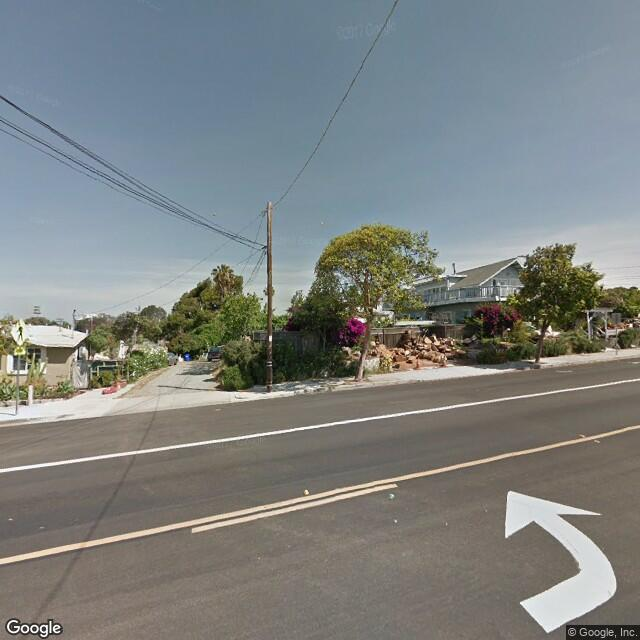litter: (395, 331, 472, 364), (363, 342, 411, 369), (300, 483, 313, 499)
